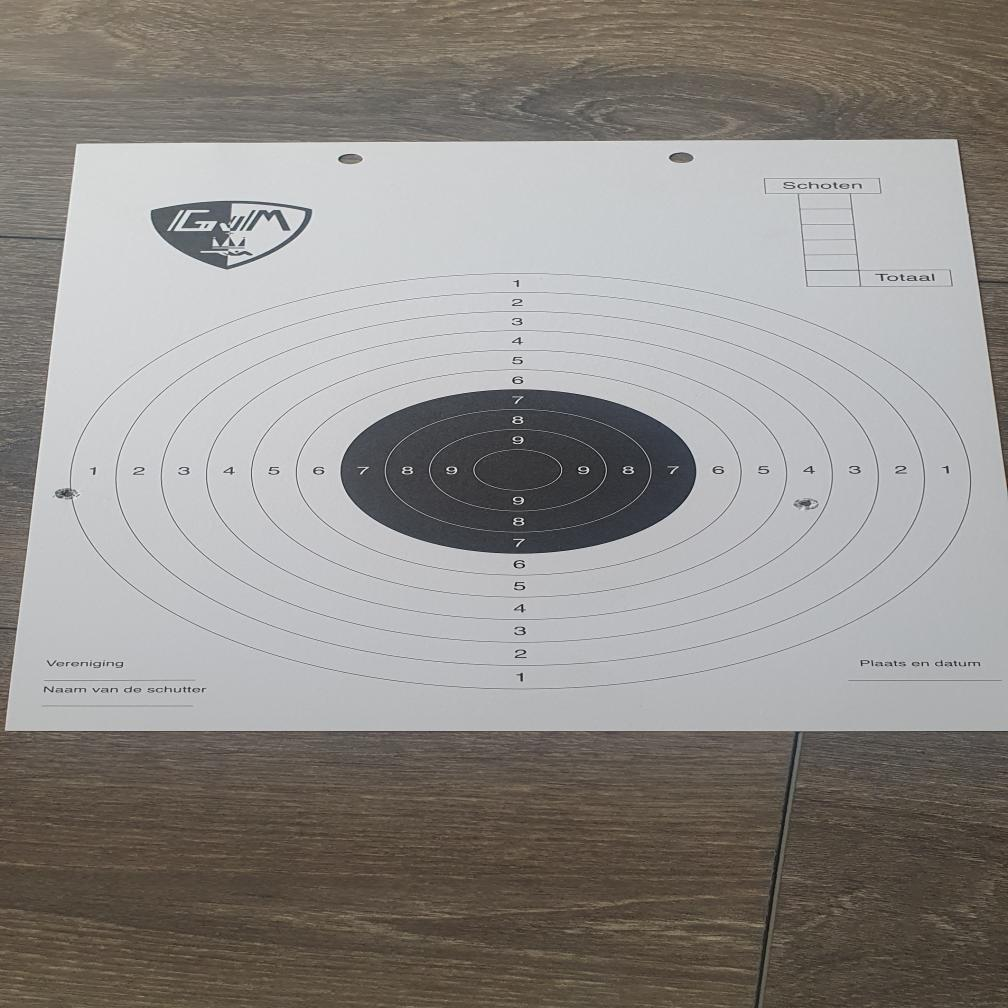1: (53, 487, 82, 500)
4: (792, 496, 823, 512)
Target: (72, 274, 975, 688)
black_contour: (340, 388, 699, 554)
